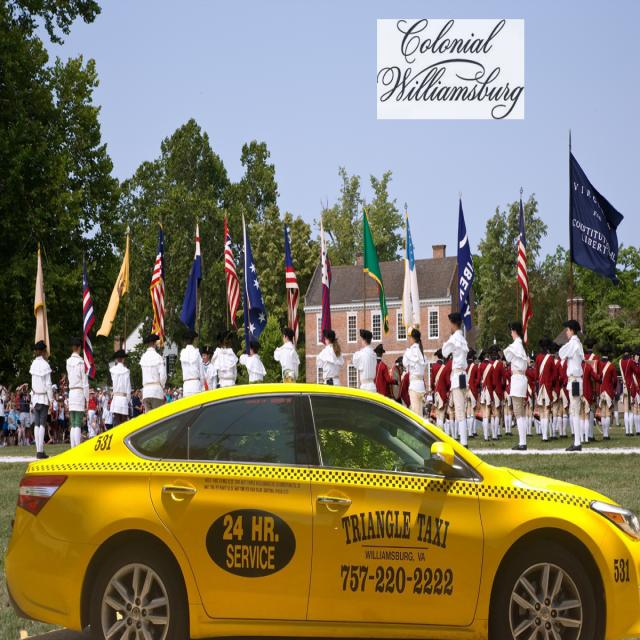Taxi: (27, 388, 640, 640)
